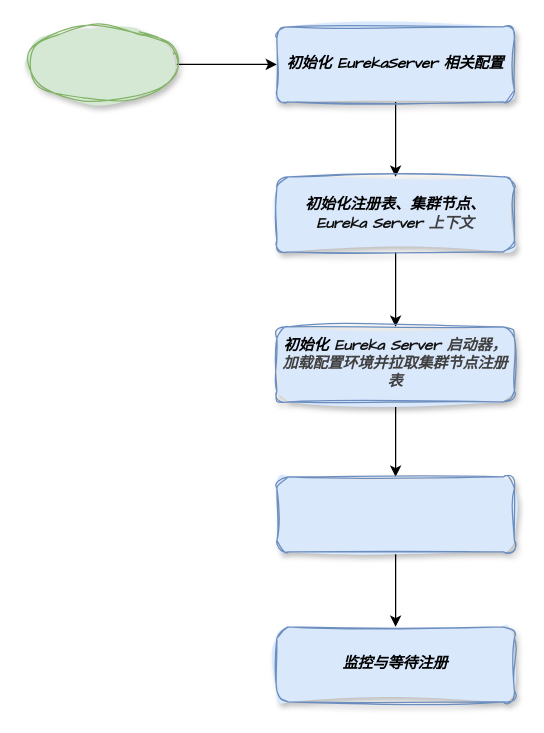
Image size: 544x733. Some labels were removed from this diagram. Each missing label, with the centre of its shape:
"SpringBoot自动装配" belongs at [102,66].
"初始化 Jersey 服务过滤器与资源，提供服务接口" belongs at [396,516].
